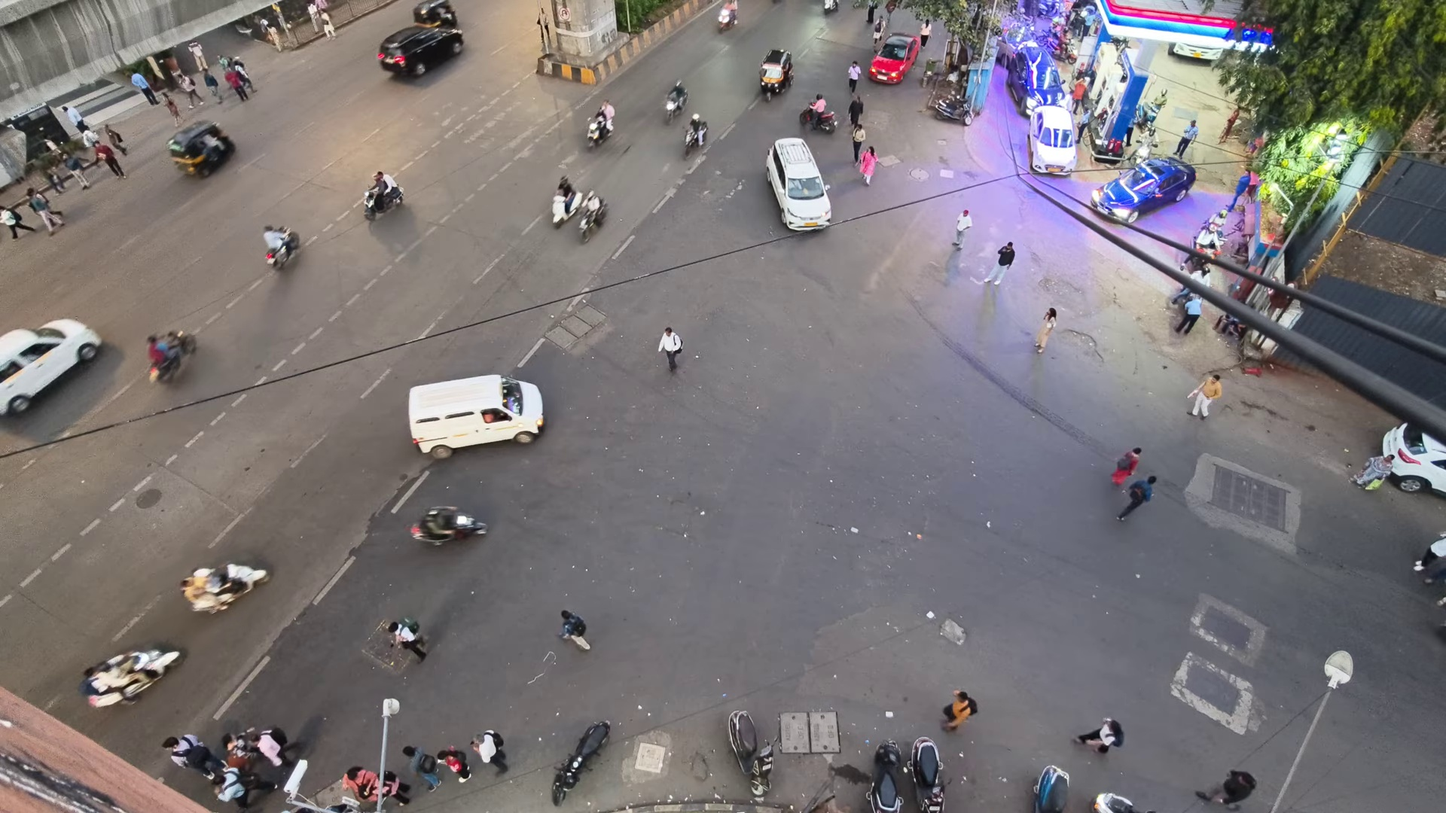walking: (161, 735, 224, 784), (343, 766, 410, 805), (217, 767, 276, 809), (1195, 770, 1255, 810), (247, 728, 298, 766), (26, 187, 64, 236), (1117, 475, 1157, 521), (402, 745, 441, 791), (388, 617, 426, 662), (1076, 718, 1123, 753), (471, 729, 508, 773), (1188, 374, 1222, 419), (981, 242, 1014, 285), (1352, 454, 1394, 487), (942, 690, 977, 729), (1413, 532, 1445, 572), (1111, 447, 1142, 487), (436, 746, 470, 781), (560, 611, 590, 650), (0, 206, 35, 239), (1175, 293, 1202, 333), (658, 327, 682, 370), (95, 145, 126, 178), (1035, 308, 1057, 352), (131, 72, 159, 105), (177, 74, 204, 108), (1174, 120, 1198, 158), (64, 154, 89, 188), (1218, 106, 1240, 143), (1227, 172, 1249, 209), (224, 67, 247, 101), (102, 124, 127, 154), (952, 210, 972, 247), (62, 105, 89, 132), (231, 58, 253, 91), (203, 69, 223, 103), (859, 147, 877, 184), (162, 93, 181, 127), (187, 41, 208, 70), (1070, 77, 1087, 112), (1076, 104, 1091, 142), (852, 123, 865, 163), (44, 168, 64, 193), (1170, 285, 1195, 304), (307, 2, 321, 34), (848, 94, 863, 123), (848, 60, 861, 93), (320, 12, 336, 38), (81, 129, 100, 148), (873, 19, 883, 53), (920, 20, 931, 50), (866, 0, 877, 25)
